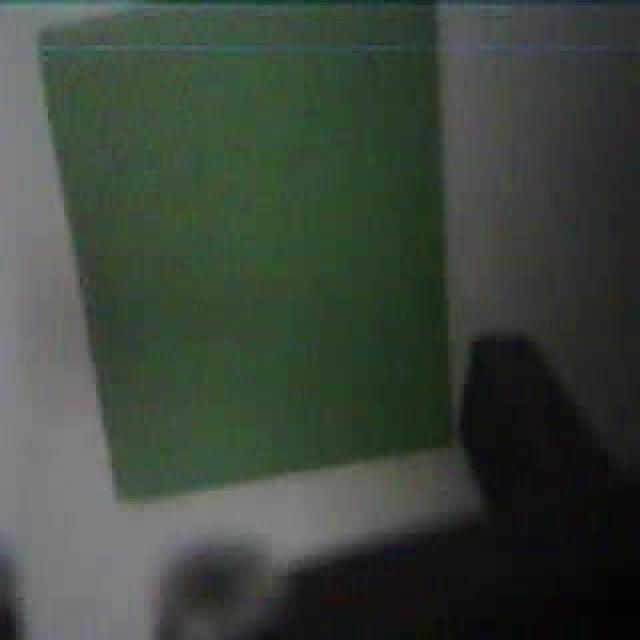green_box: (36, 2, 456, 506)
